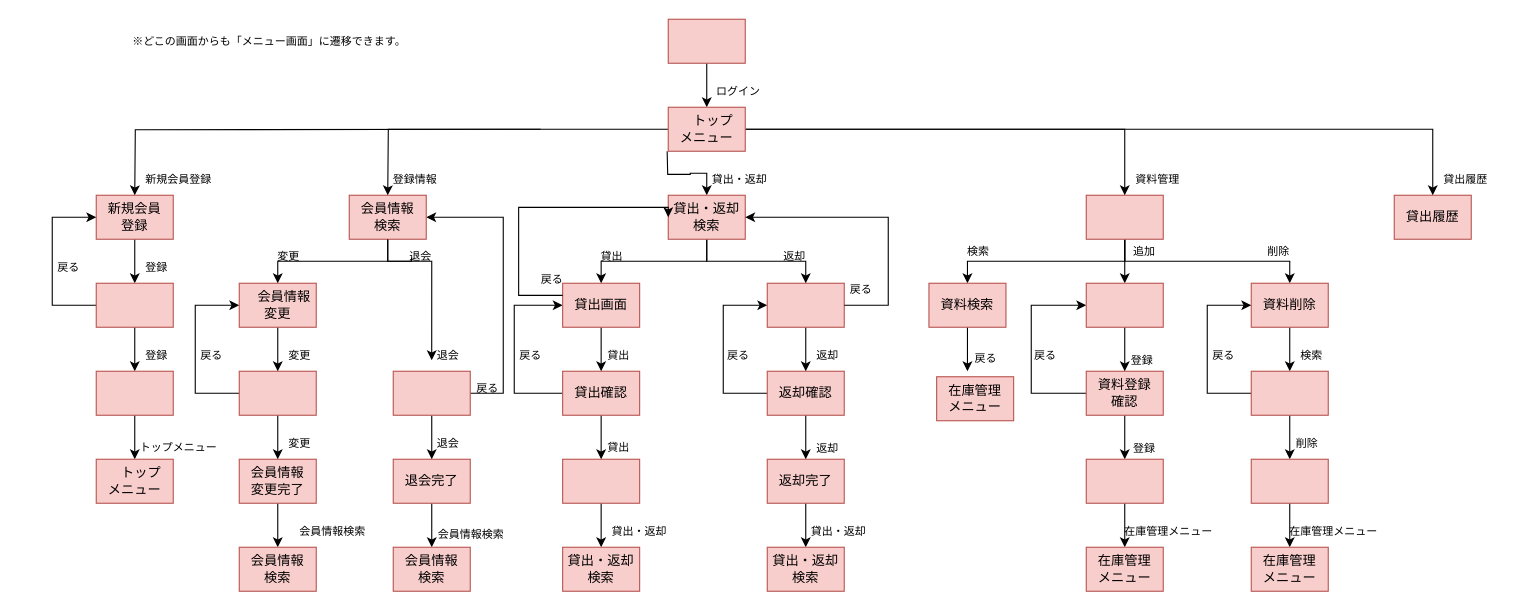
The diagram is 1533 pixels wide and 611 high, and some of its shapes have lost their labels. The box of each missing label's shape, as (x1, y1, x2, y2) in pixels:
ログイン 画面: (667, 18, 745, 63)
会員情報 変更確認: (238, 370, 316, 415)
登録完了: (95, 370, 173, 415)
登録確認: (95, 282, 173, 327)
貸出完了: (562, 458, 640, 503)
資料削除 完了: (1250, 458, 1328, 503)
資料削除 確認: (1250, 370, 1328, 415)
資料登録: (1085, 282, 1163, 327)
資料登録 完了: (1085, 458, 1163, 503)
資料管理 メニュー: (1085, 194, 1163, 239)
返却画面: (766, 282, 844, 327)
退会確認: (392, 370, 470, 415)
